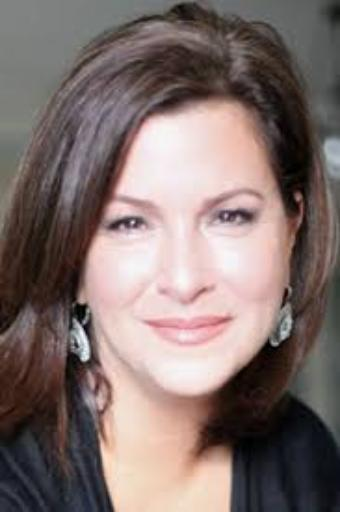left_eye: (206, 205, 260, 234)
left_lip_corner: (222, 312, 240, 331)
right_eye: (109, 214, 157, 241)
right_lip_corner: (137, 315, 152, 334)
